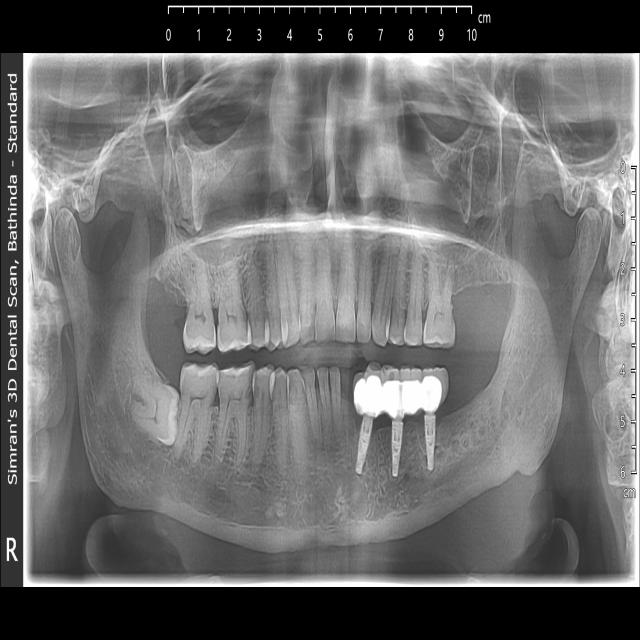Caries: (241, 370, 252, 406), (252, 377, 262, 406)
Crown: (397, 365, 424, 414), (421, 366, 448, 412), (355, 376, 381, 423), (380, 368, 405, 416)
Implant: (354, 412, 375, 477), (390, 419, 403, 480), (425, 417, 436, 473)
Mandibular Canal: (413, 329, 551, 499), (87, 340, 227, 500)
Missing teeth: (436, 346, 491, 414), (458, 280, 489, 311)
impacted tooth: (125, 367, 178, 446)
maxillary sinus: (396, 74, 525, 269), (144, 86, 271, 270)
